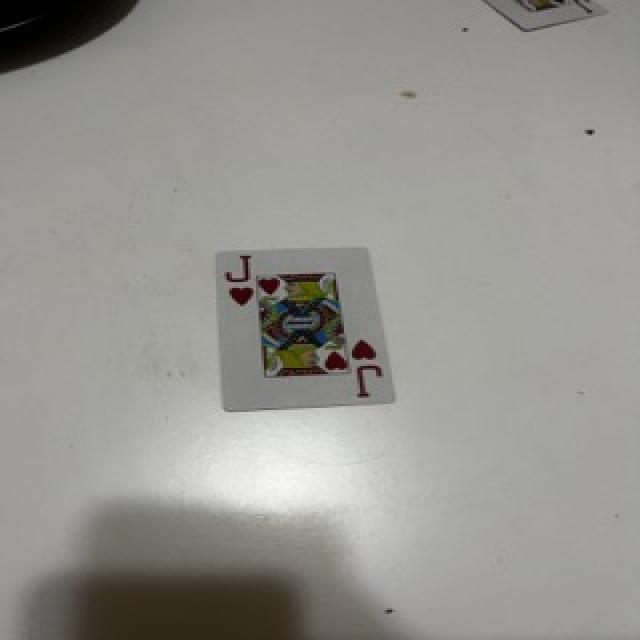Jack of hearts: (217, 249, 393, 410)
